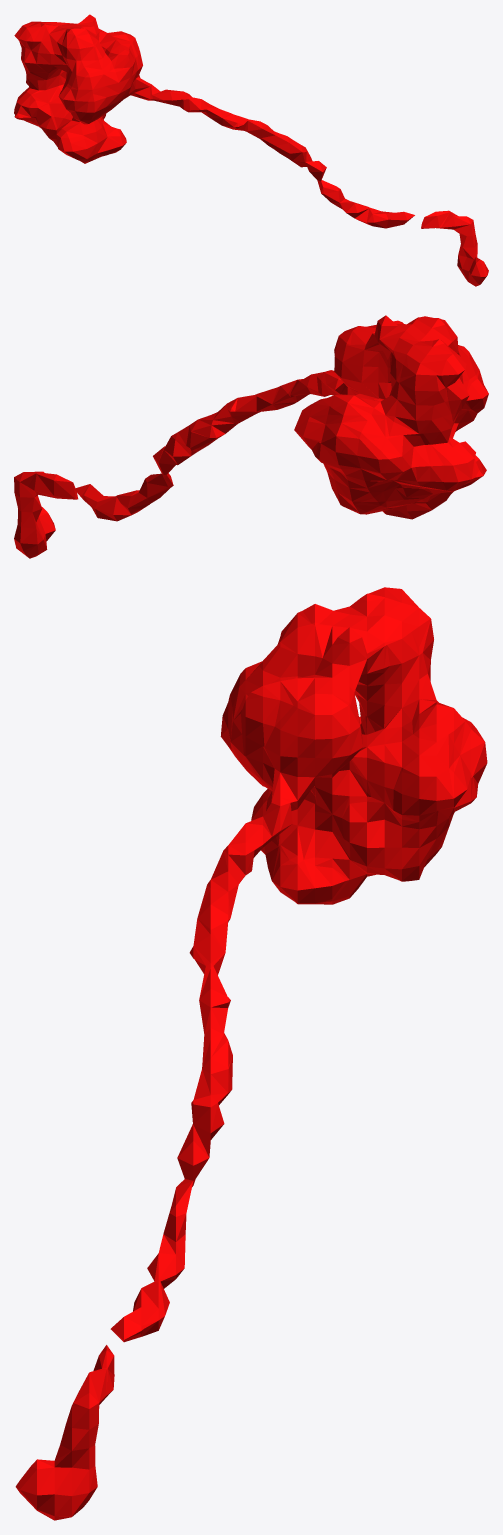
File: ligA_coarse.dae
3 views of the same model, one above another, from view 1: azimuth 30°, elevation 25°; view 2: azimuth 150°, elevation 25°; view 3: azimuth 270°, elevation 25° (orthographic). The views are drawn at different scales.
Visible parts, largest first — view 1: ligA; view 2: ligA; view 3: ligA.
Part boxes in pixels (left/top/right/bottom): ligA: left=14, top=14, right=488, bottom=286; ligA: left=14, top=315, right=488, bottom=558; ligA: left=15, top=587, right=487, bottom=1520.
Bounding box in the file's own units: 241 × 173 × 125.
